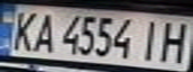4: (112, 15, 139, 60), (57, 11, 81, 56)
5: (93, 14, 118, 58), (75, 12, 100, 56)
A: (27, 10, 60, 54)
H: (154, 18, 193, 63)
I: (136, 17, 169, 62)
K: (3, 8, 42, 52)
